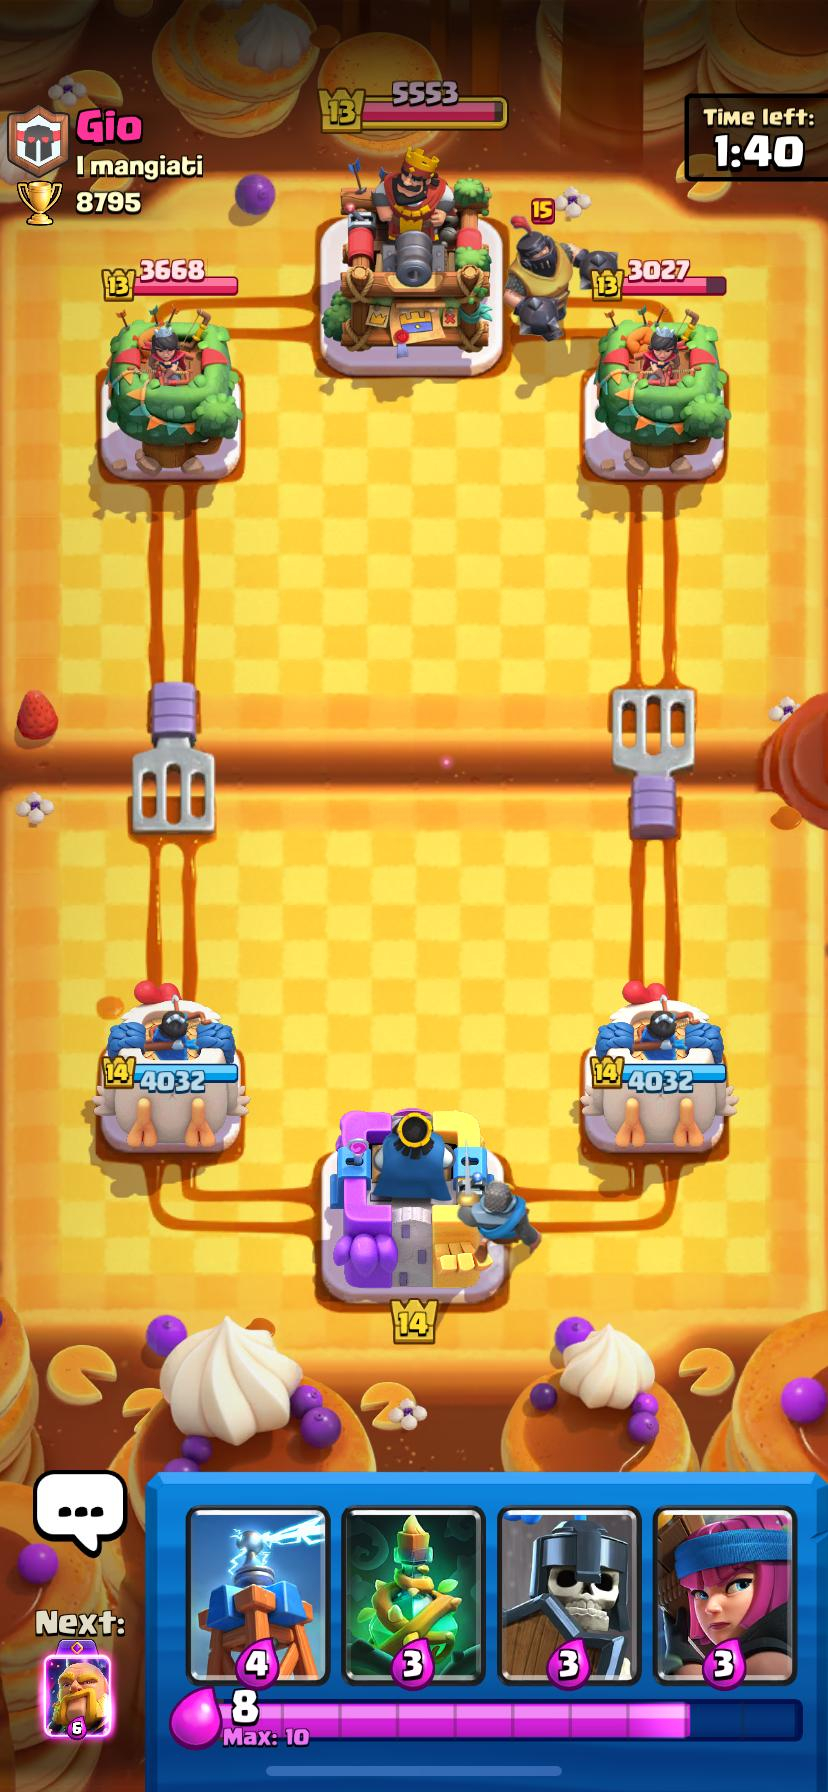EKingTower: (321, 146, 502, 374)
EMegaKnight: (504, 216, 624, 341)
EnemyPrincessTower: (594, 309, 729, 477), (106, 309, 241, 453)
OKnight: (457, 1178, 539, 1249)
OwnKingTower: (315, 1109, 507, 1304)
OwnPrincessTower: (580, 982, 737, 1154), (93, 983, 248, 1152)
